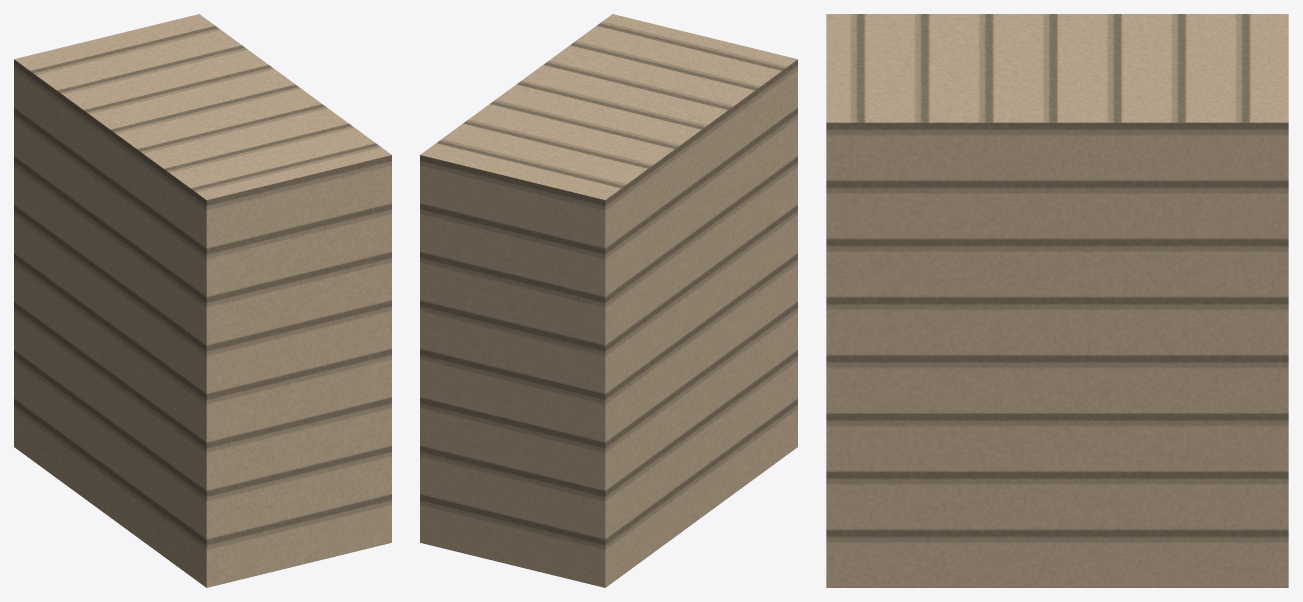
File: shopping_cart.glb
The picture shows the model from 3 angles, left to right: view 1: azimuth 30°, elevation 25°; view 2: azimuth 150°, elevation 25°; view 3: azimuth 270°, elevation 25°; orthographic projection. The views are drawn at different scales.
Visible parts, largest first — view 1: shopping_cart-col; view 2: shopping_cart-col; view 3: shopping_cart-col.
Boxes of the visible parts, <box> form: shopping_cart-col: <box>14,14,391,587</box>; shopping_cart-col: <box>420,14,797,587</box>; shopping_cart-col: <box>826,14,1288,587</box>.
Bounding box in the file's own units: 0.5 × 1 × 0.9.
1 material, 1 textured.
